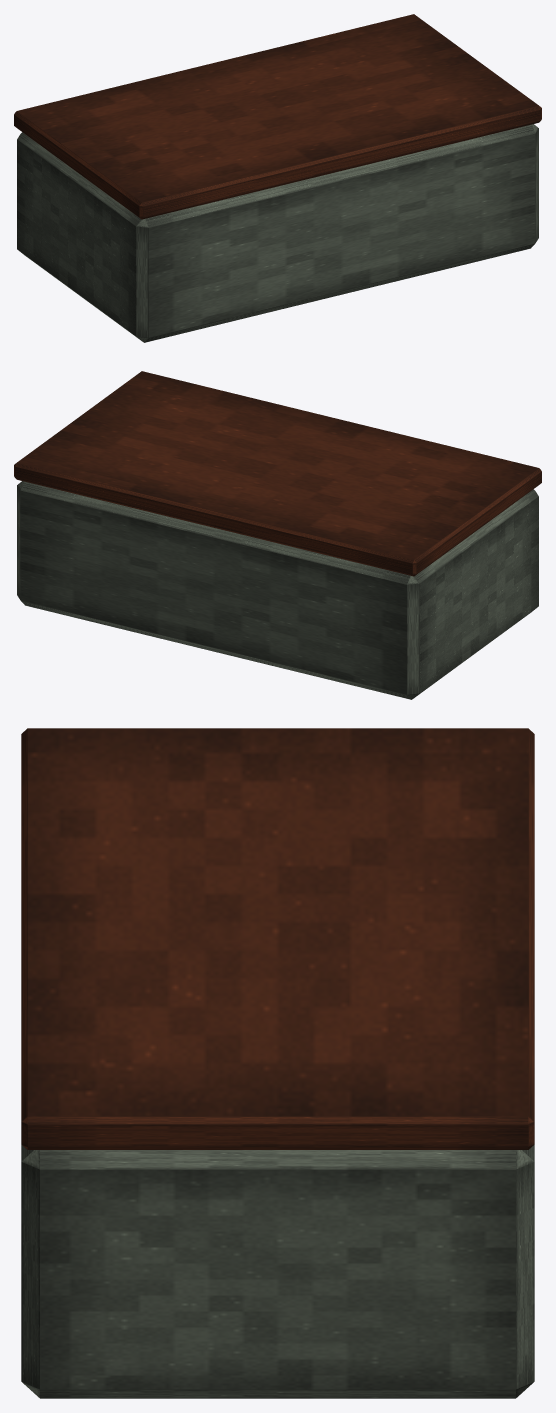
The model's file is THStage_FindSupport_10.fbx.
The picture shows the model from 3 angles, top to bottom: view 1: azimuth 30°, elevation 25°; view 2: azimuth 150°, elevation 25°; view 3: azimuth 270°, elevation 25°; orthographic projection. The views are drawn at different scales.
Parts seen in each view (by area): view 1: THStage_FindSupport_10.013; view 2: THStage_FindSupport_10.013; view 3: THStage_FindSupport_10.013.
Part boxes in pixels (x1,y1,x2,y2): THStage_FindSupport_10.013: (14, 14, 541, 342); THStage_FindSupport_10.013: (14, 371, 541, 699); THStage_FindSupport_10.013: (21, 728, 534, 1398).
Bounding box in the file's own units: 0.598 × 0.204 × 0.33.
Materials: 1 (1 with a texture image).
